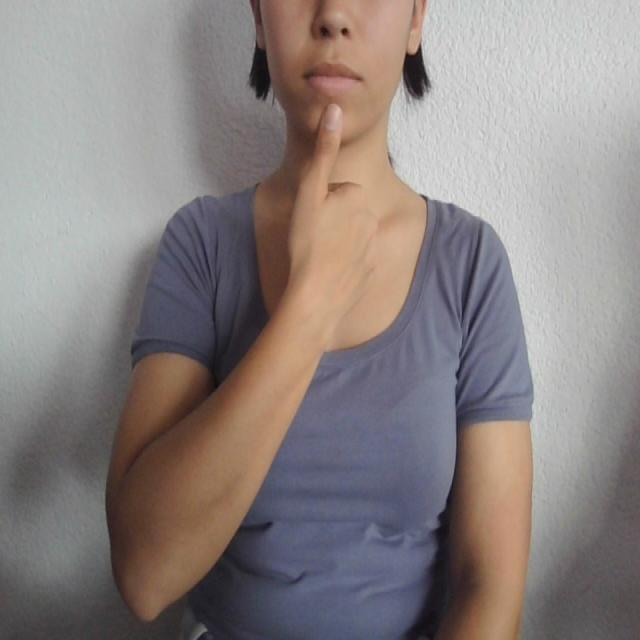Baba: (291, 49, 369, 179)
